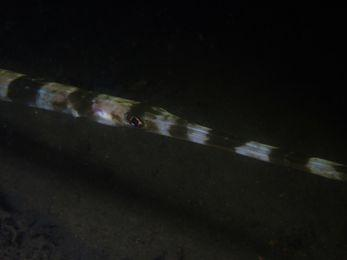Fistularia commersonii: (0, 58, 346, 187)
